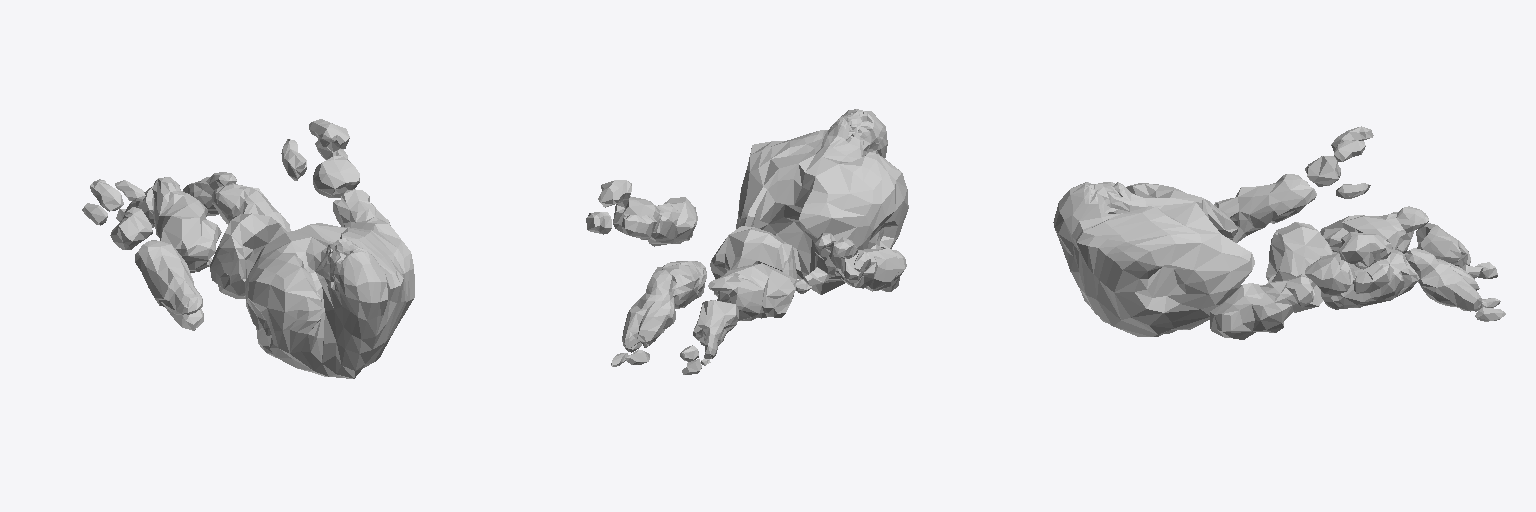
Rendered from atronachtormenta.obj.
The picture shows the model from 3 angles: view 1: azimuth 30°, elevation 25°; view 2: azimuth 150°, elevation 25°; view 3: azimuth 270°, elevation 25°; orthographic projection.
Parts seen in each view (by area): view 1: StormAtronach02; view 2: StormAtronach02; view 3: StormAtronach02.
Boxes of the visible parts, <box> form: StormAtronach02: <box>82,119,414,378</box>; StormAtronach02: <box>586,109,908,374</box>; StormAtronach02: <box>1053,126,1505,339</box>.
Bounding box in the file's own units: 114 × 61.97 × 166.